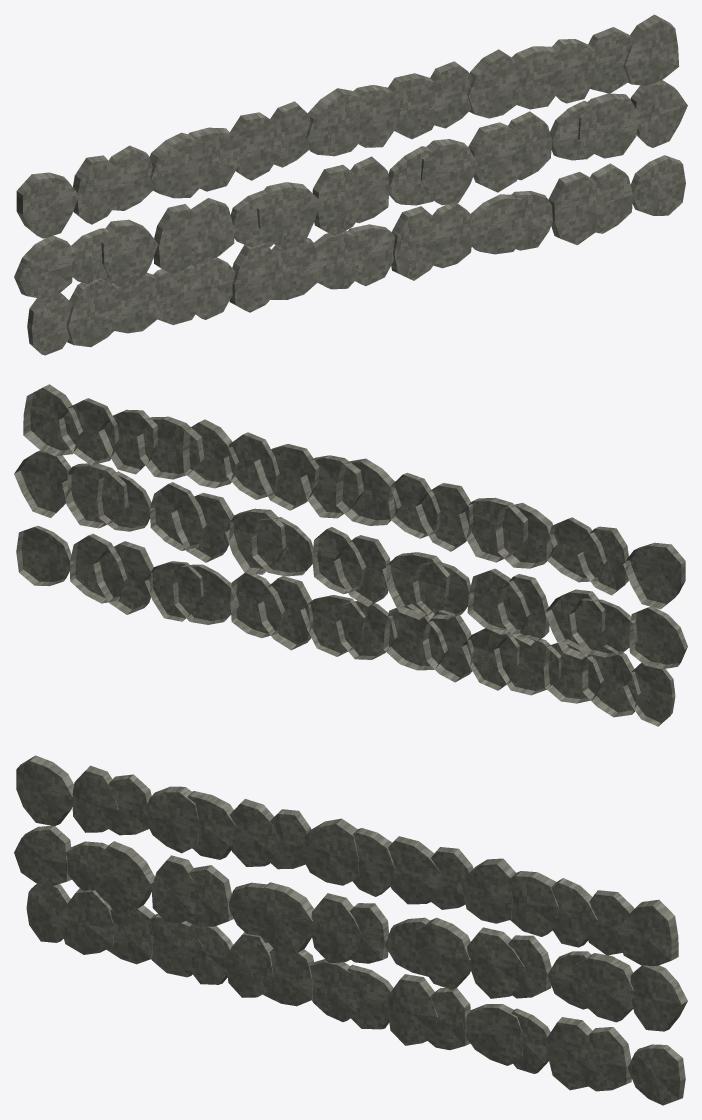
Rendered from SM_ShBagEndCobbledWalk.obj.
3 views of the same model, one above another, from view 1: azimuth 30°, elevation 25°; view 2: azimuth 150°, elevation 25°; view 3: azimuth 330°, elevation 25° (orthographic).
Visible parts, largest first — view 1: SM_ShBagEndCobbledWalk; view 2: SM_ShBagEndCobbledWalk; view 3: SM_ShBagEndCobbledWalk.
Boxes of the visible parts, bbox=[...] form: SM_ShBagEndCobbledWalk: bbox=[14, 14, 687, 355]; SM_ShBagEndCobbledWalk: bbox=[14, 384, 687, 726]; SM_ShBagEndCobbledWalk: bbox=[14, 755, 687, 1105].
Bounding box in the file's own units: 587 × 177 × 10.1.
1 material, 1 textured.
